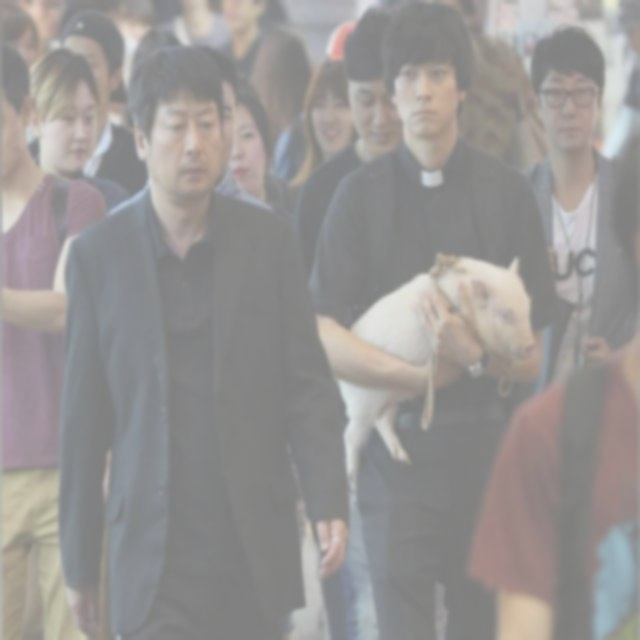pessoa: (53, 33, 364, 639), (301, 0, 570, 639), (90, 40, 342, 640), (466, 121, 640, 639), (301, 4, 408, 639), (20, 45, 134, 639), (518, 19, 639, 402), (25, 8, 152, 204), (460, 2, 558, 191), (249, 0, 329, 195), (27, 45, 117, 215), (84, 1, 184, 137), (216, 62, 288, 209), (287, 56, 356, 192), (0, 0, 84, 86), (608, 0, 640, 213), (182, 0, 250, 77), (328, 0, 368, 62)
